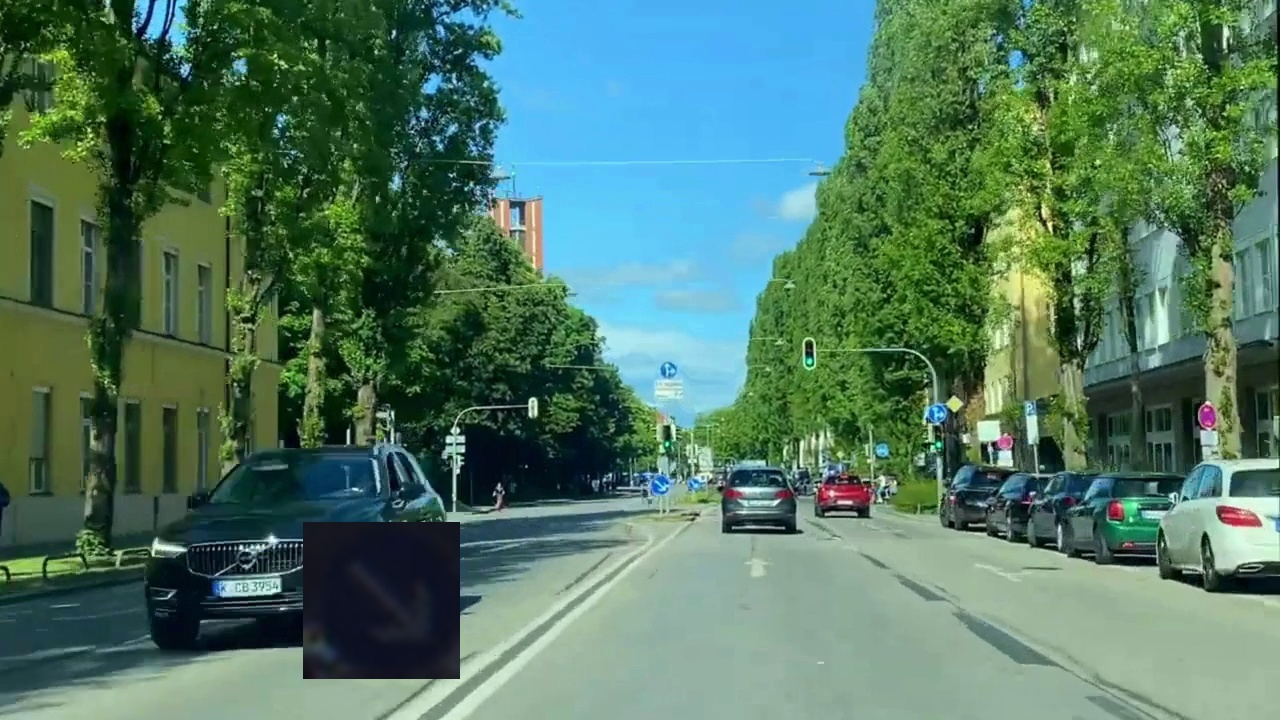Keep right: (303, 522, 460, 679)
